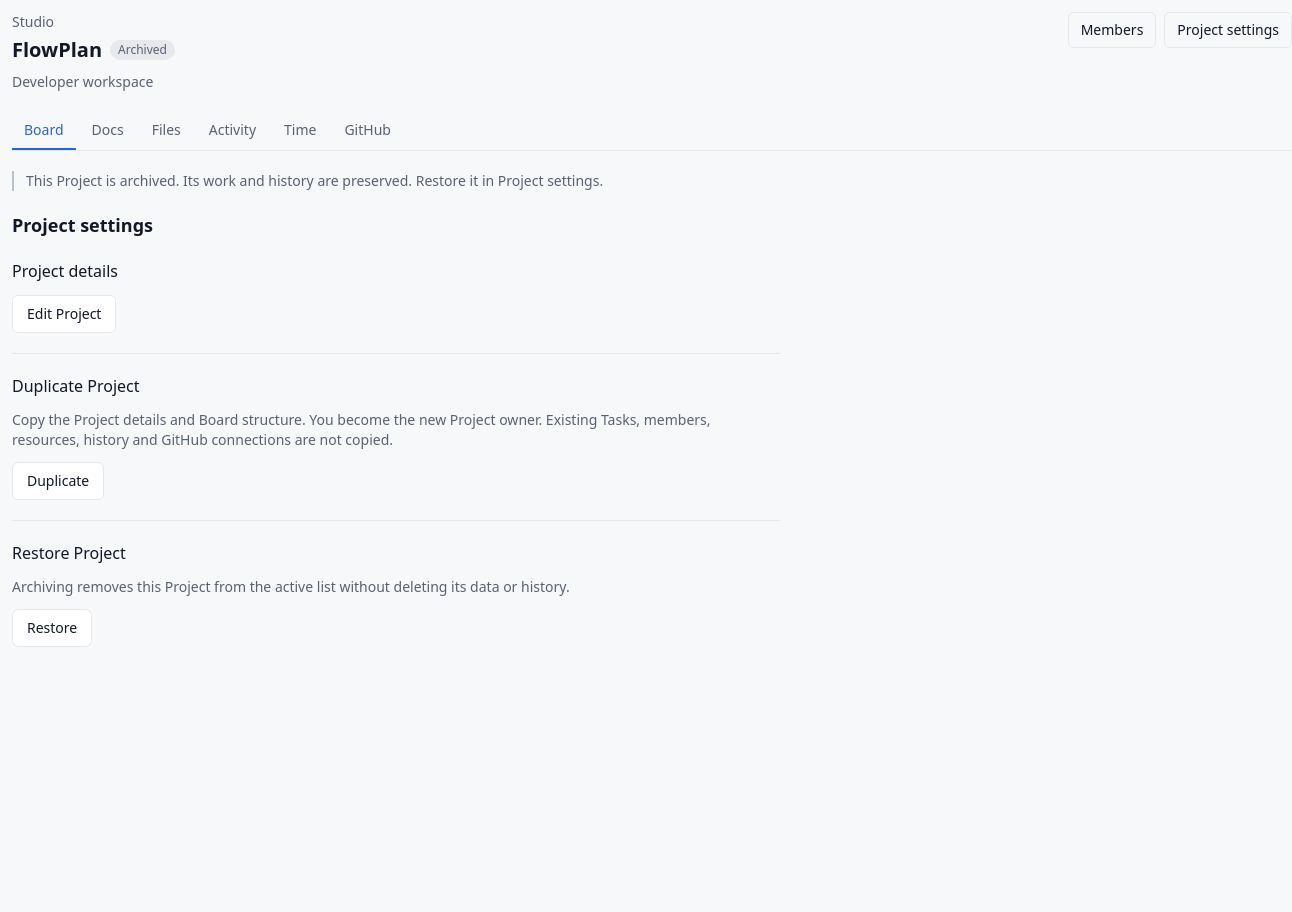
it: restore uses existing API and invalidates both active/archived list scopes
Click the button "Restore" at (52, 628), box x1=12 y1=609 x2=92 y2=647
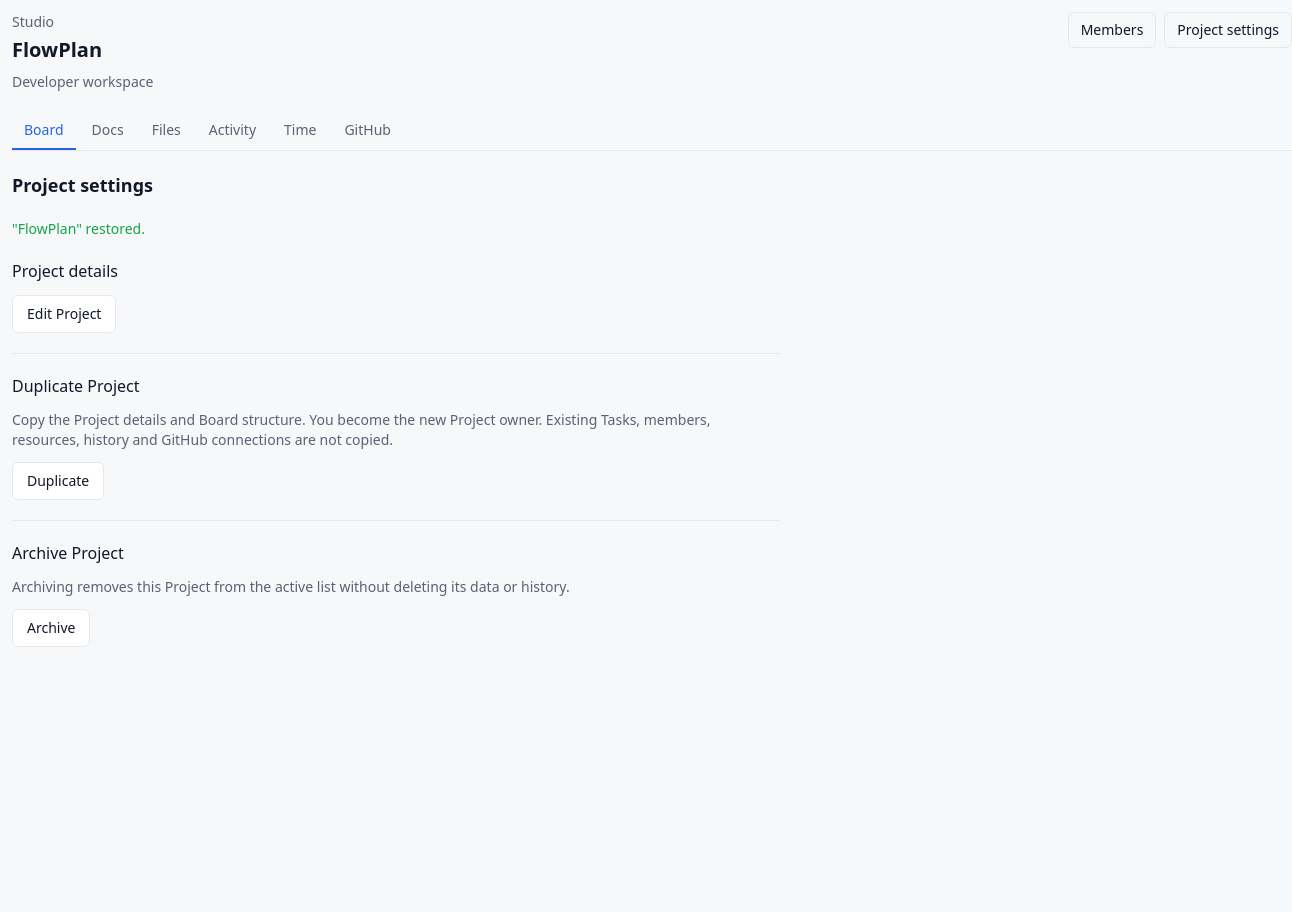
Check: the button "Archive" is shown, box x1=12 y1=609 x2=90 y2=647
